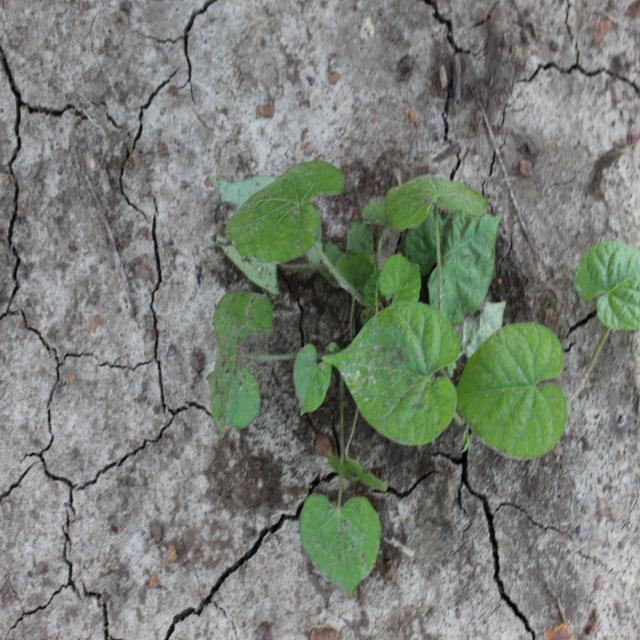MorningGlory: (204, 156, 637, 604)
